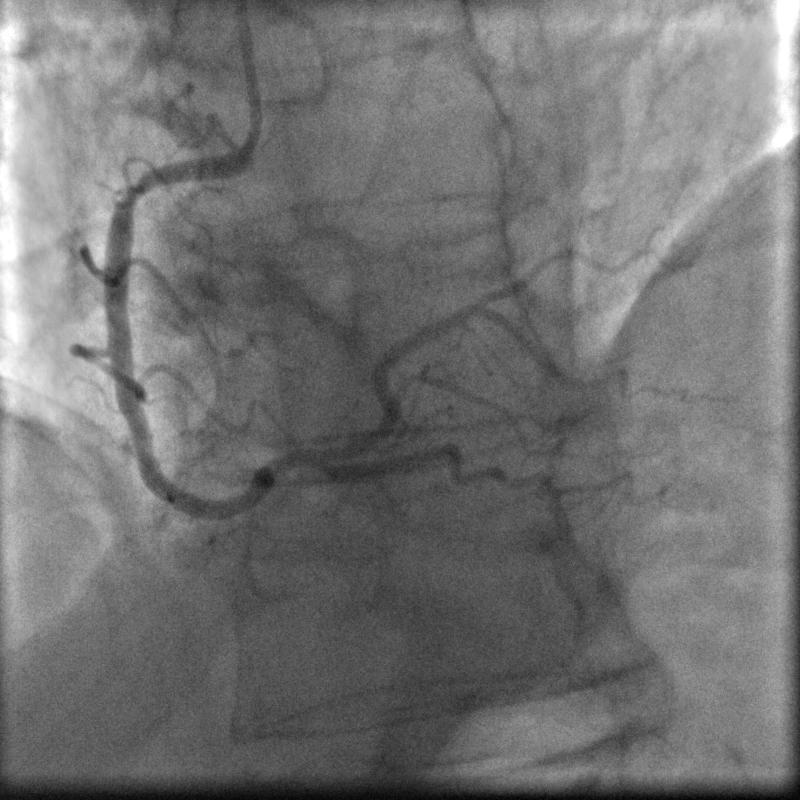Stenosis: (114, 168, 158, 205)
